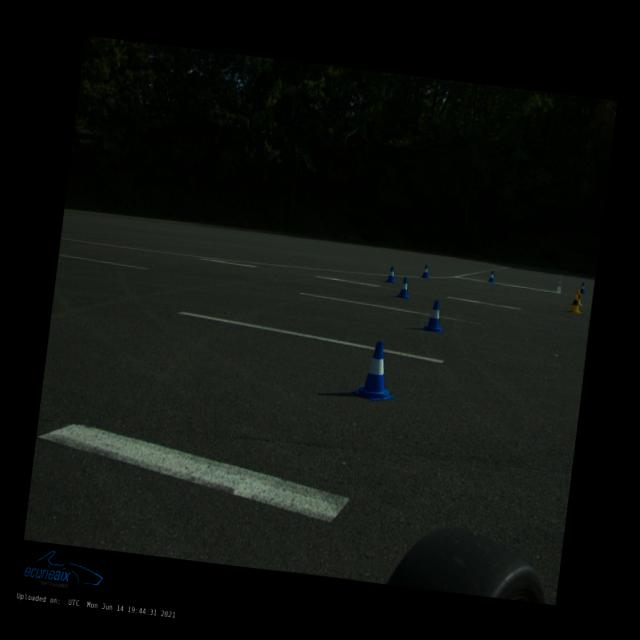blue_cone: (351, 338, 400, 402), (422, 299, 446, 333), (396, 276, 411, 298), (383, 266, 398, 284), (420, 264, 430, 278), (487, 270, 496, 282), (580, 282, 586, 294)
yellow_cone: (568, 293, 583, 314), (576, 289, 584, 306)
